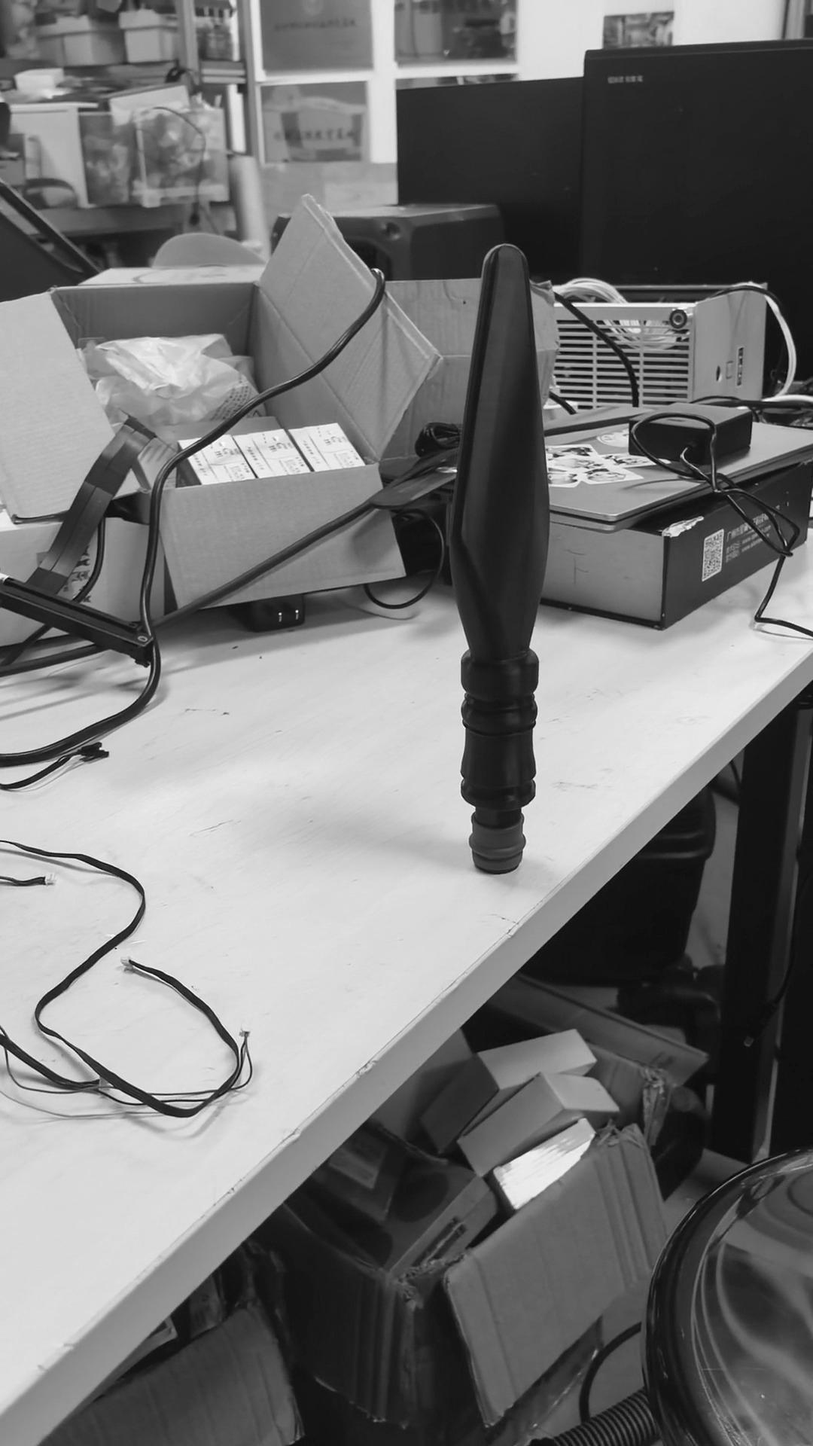base: (464, 801, 545, 880)
